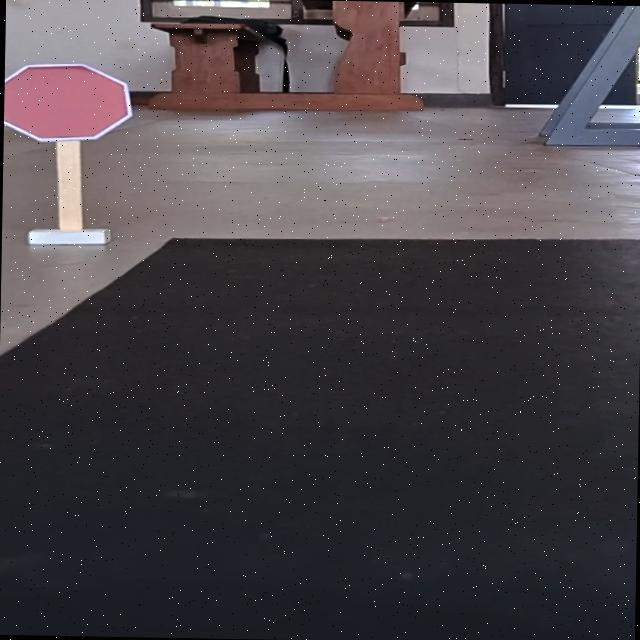Stop: (4, 59, 144, 144)
